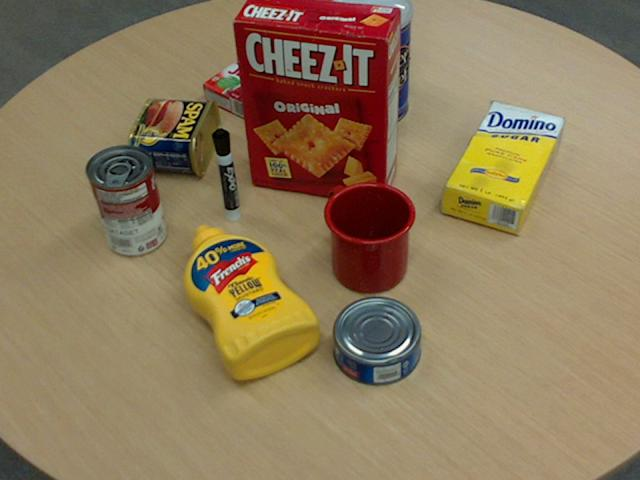cracker_box: (233, 0, 401, 202)
gelatin_box: (201, 57, 288, 122)
large_marker: (211, 128, 239, 222)
master_chef_can: (325, 0, 411, 130)
mug: (322, 180, 415, 292)
mustard_bottle: (182, 225, 320, 379)
potted_meat_can: (128, 98, 221, 175)
sugar_box: (442, 102, 564, 233)
tomato_soup_can: (84, 143, 164, 254)
tuna_fish_can: (333, 296, 421, 385)
